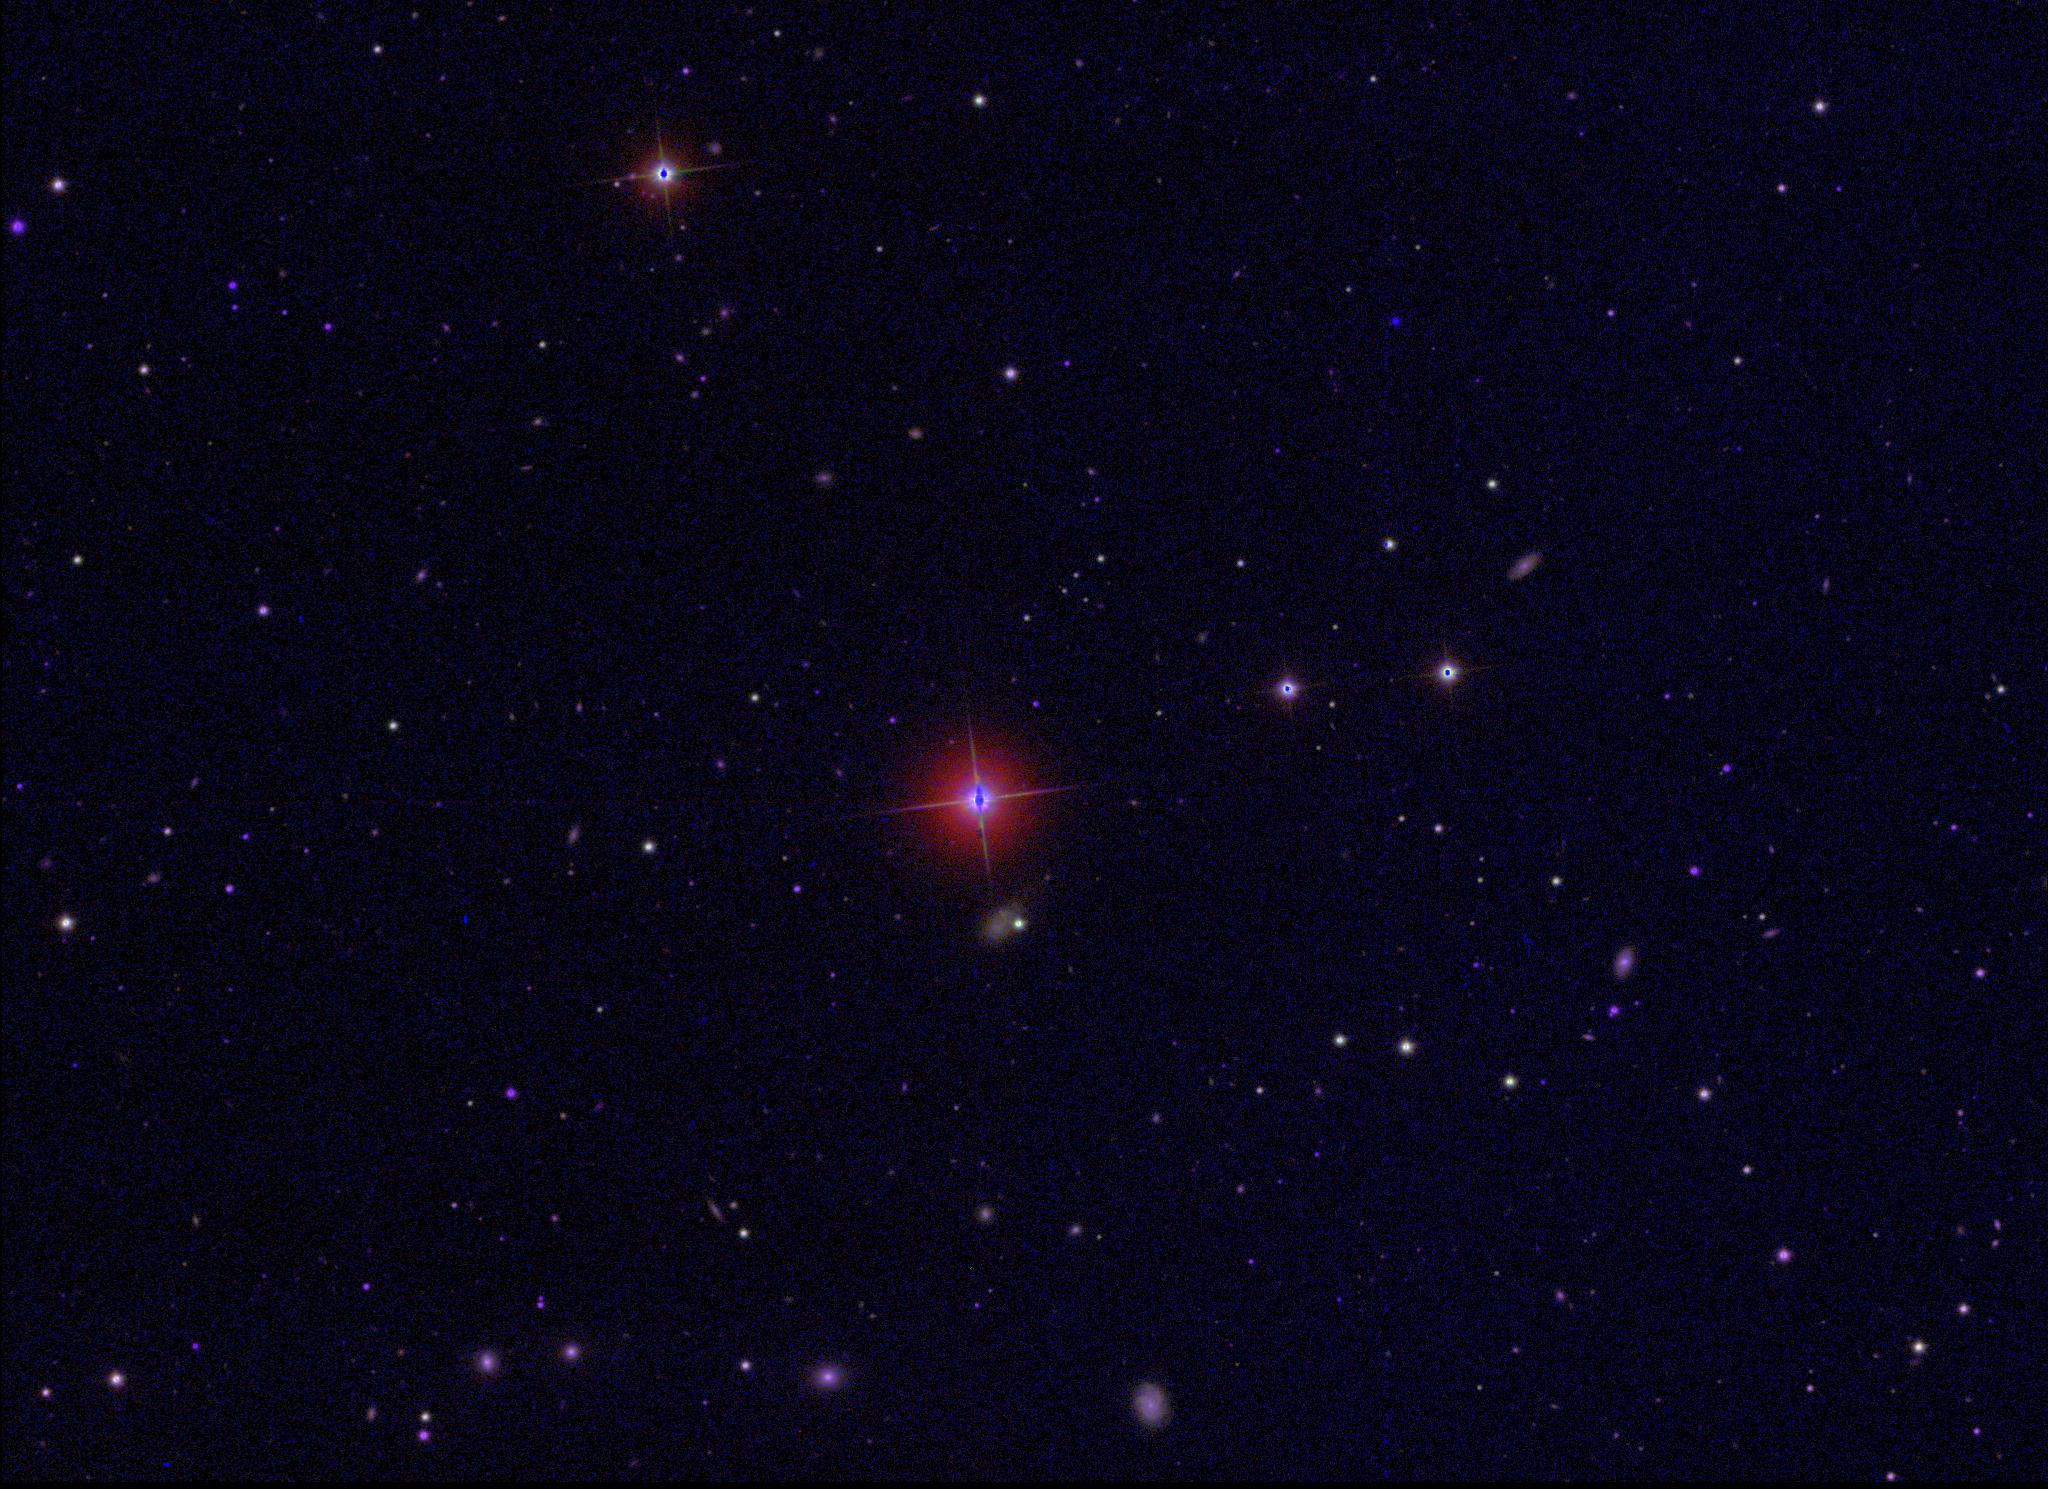L: (1390, 313, 1402, 328)
